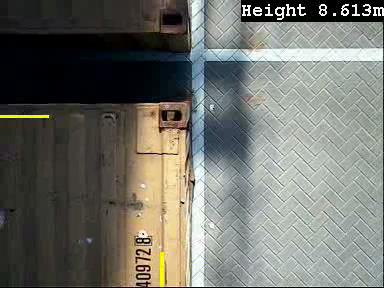groundmarker_2: (131, 58, 248, 119)
